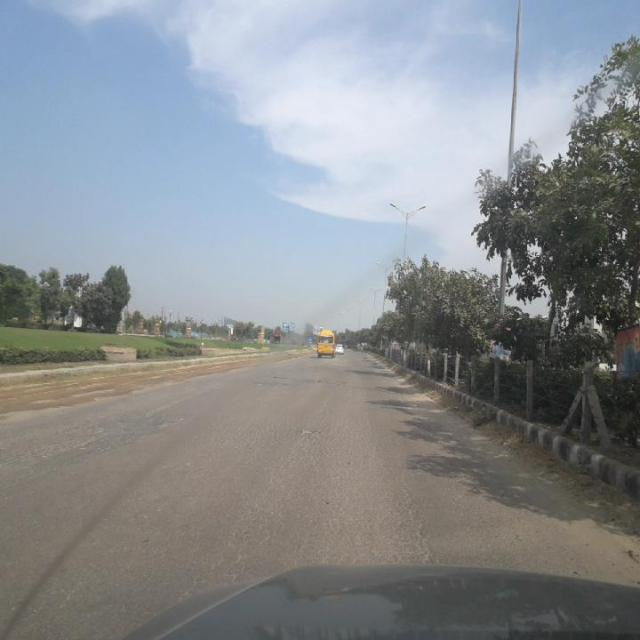D00: (396, 434, 444, 561)
D20: (198, 400, 428, 575)
D40: (6, 396, 188, 484), (293, 418, 319, 442)
